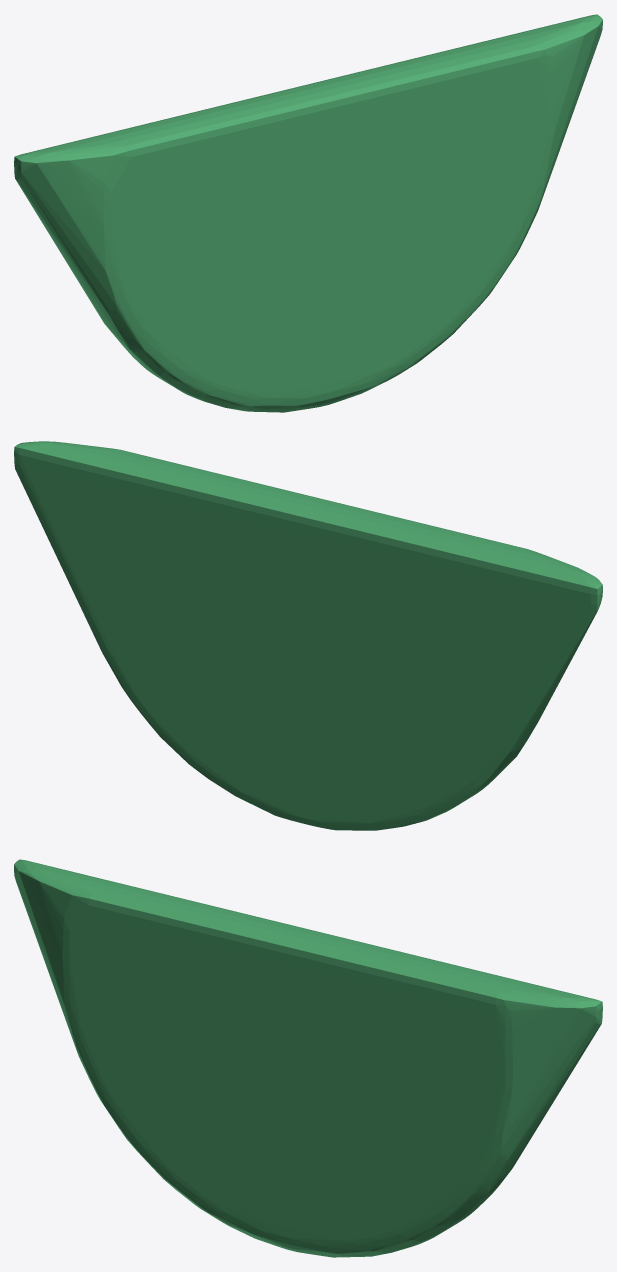
File: pelvis_part_3.obj
3 views of the same model, one above another, from view 1: azimuth 30°, elevation 25°; view 2: azimuth 150°, elevation 25°; view 3: azimuth 330°, elevation 25° (orthographic).
Bounding box in the file's own units: 0.1121 × 0.0575 × 0.00816.
